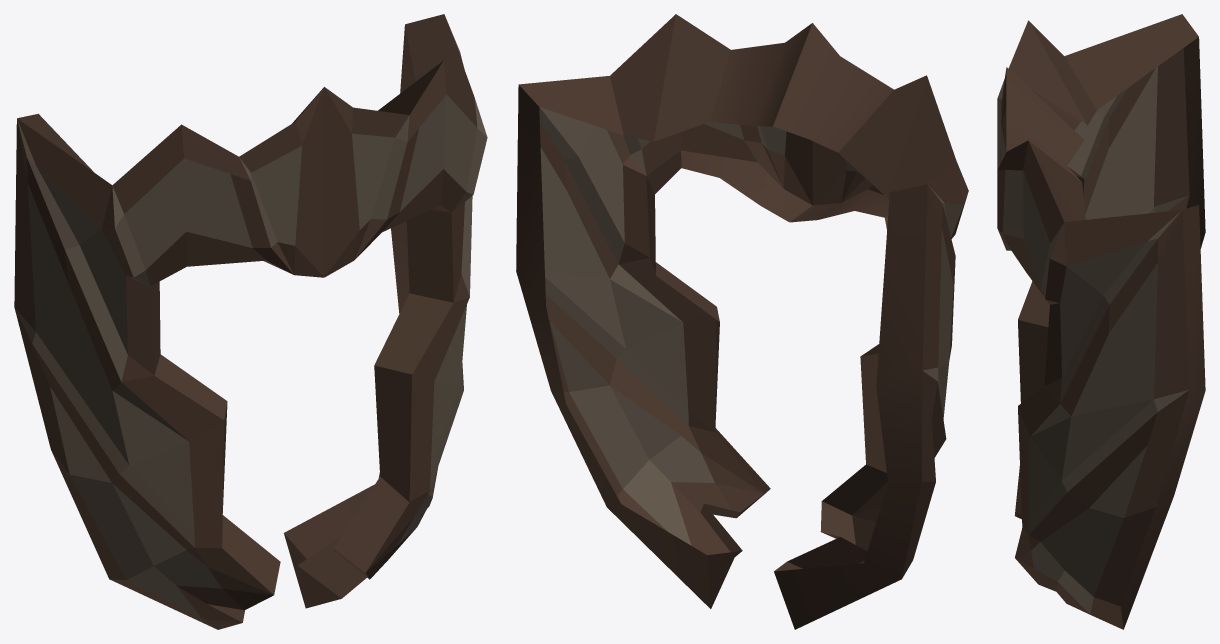
The model's file is Chr_HeadCoverings_No_FacialHair_01_Static.fbx.
3 views of the same model, side by side, from view 1: azimuth 30°, elevation 25°; view 2: azimuth 150°, elevation 25°; view 3: azimuth 270°, elevation 25° (orthographic). The views are drawn at different scales.
Parts seen in each view (by area): view 1: Chr_HeadCoverings_No_FacialHair_01_Static; view 2: Chr_HeadCoverings_No_FacialHair_01_Static; view 3: Chr_HeadCoverings_No_FacialHair_01_Static.
Part boxes in pixels (<box>): Chr_HeadCoverings_No_FacialHair_01_Static: <box>14,14,487,629</box>; Chr_HeadCoverings_No_FacialHair_01_Static: <box>516,14,968,629</box>; Chr_HeadCoverings_No_FacialHair_01_Static: <box>997,14,1205,629</box>.
Size of the model in its own units: 0.2503 by 0.3193 by 0.111.
